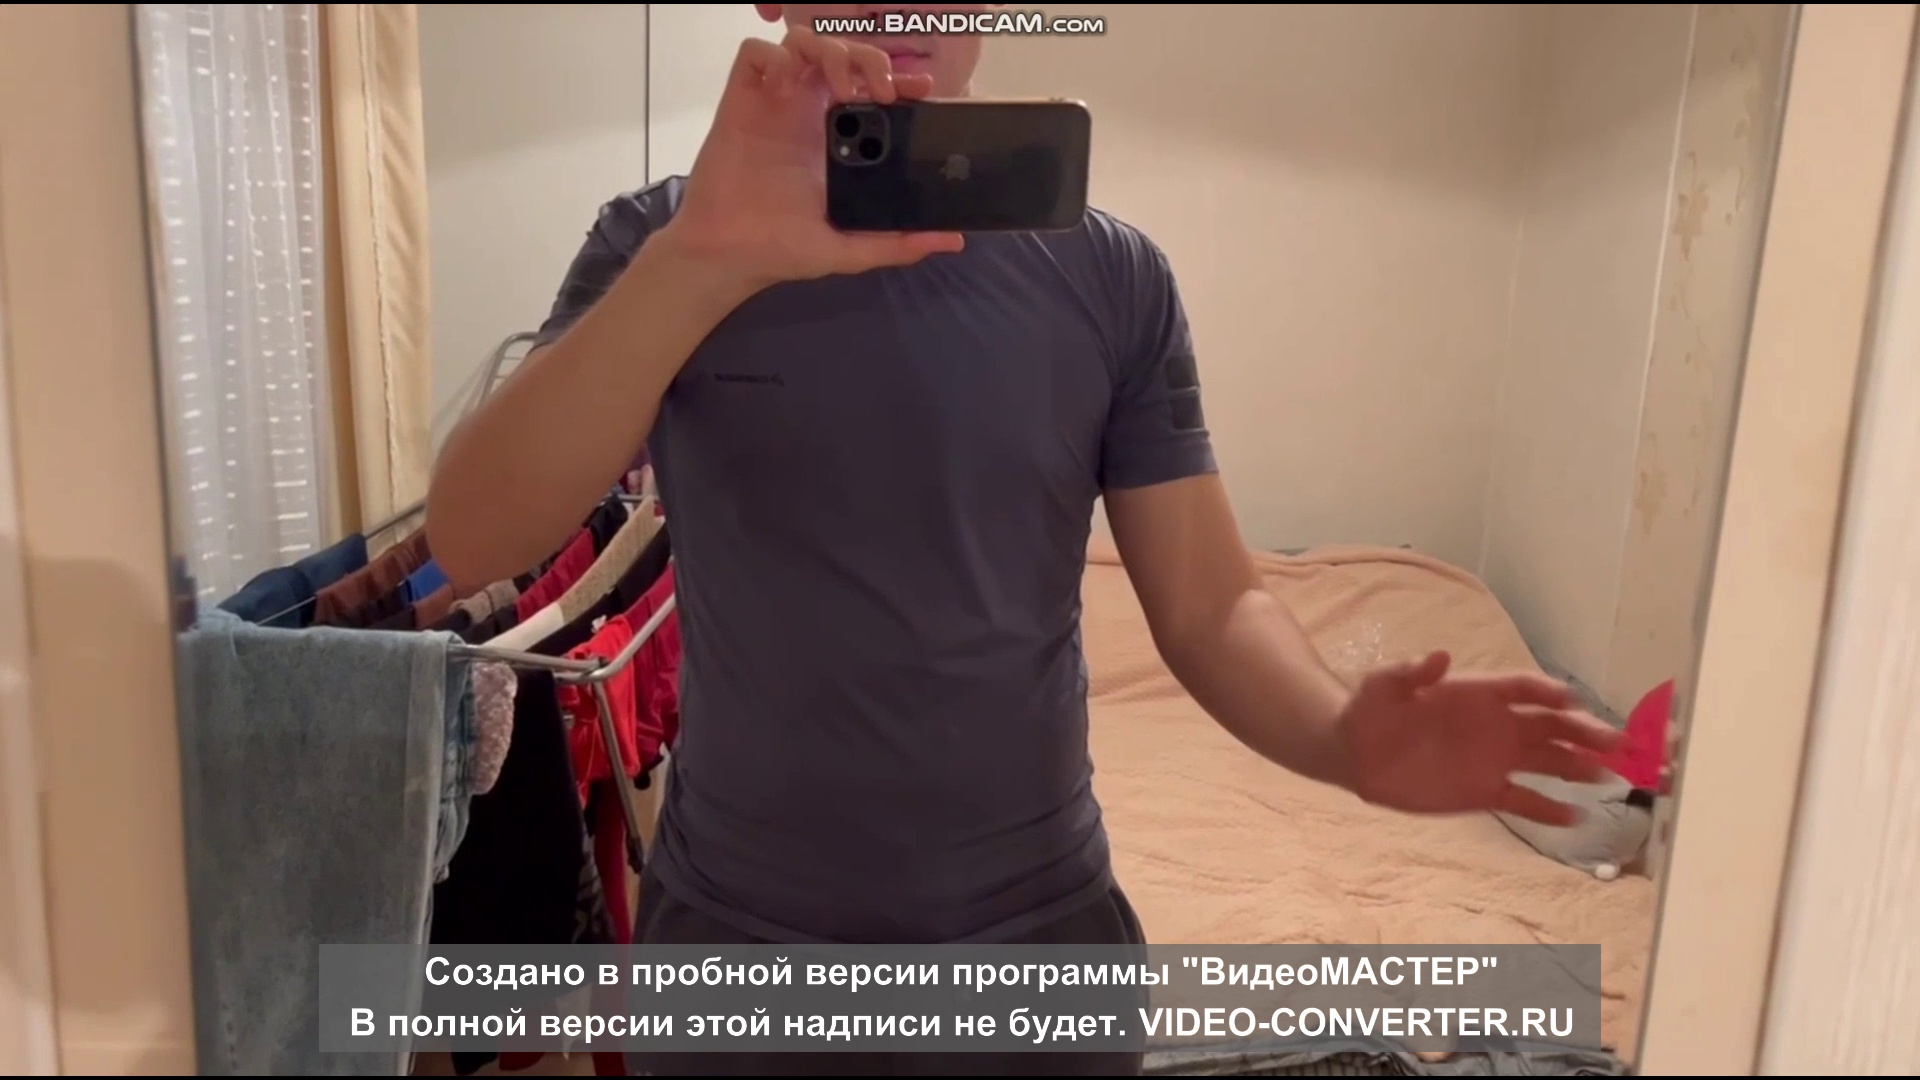Ладонь: (1341, 644, 1623, 831)
